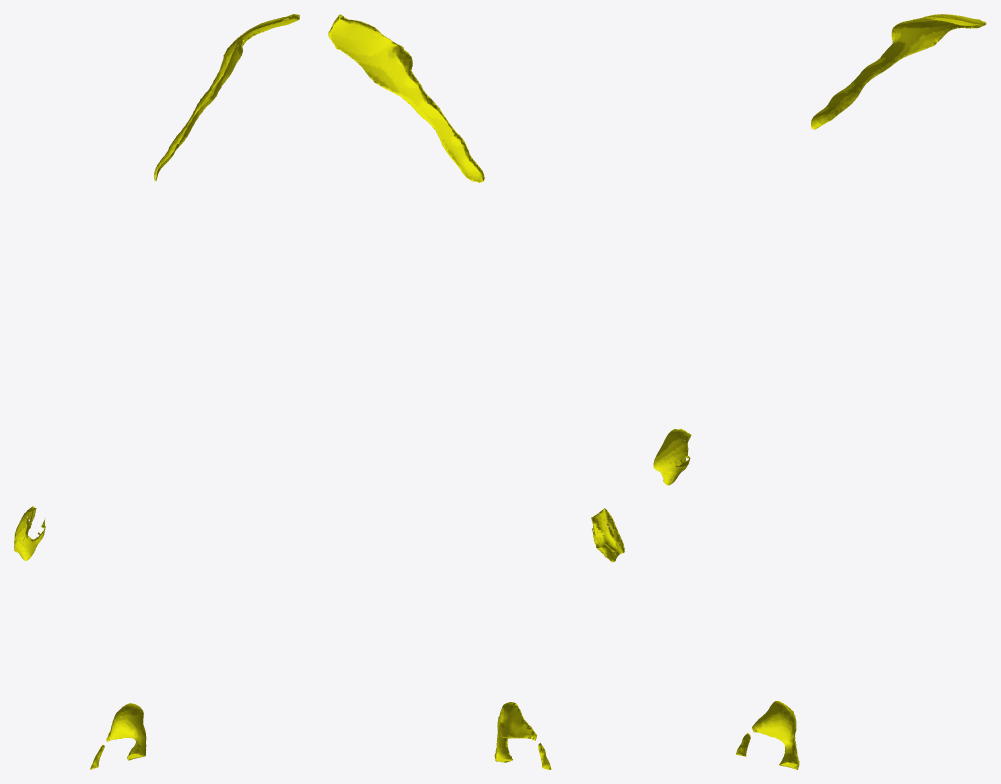
3 views of the same model, side by side, from view 1: azimuth 30°, elevation 25°; view 2: azimuth 150°, elevation 25°; view 3: azimuth 330°, elevation 25° (orthographic). The views are drawn at different scales.
Parts seen in each view (by area): view 1: Switch_Switch_osgPicked_gmeGeoEntityGeode_Geometry_Geometry_ (×2), Switch_Switch_osgPicked_gmeGeoEntityGeode_Geometry_0; view 2: Switch_Switch_osgPicked_gmeGeoEntityGeode_Geometry_Geometry_ (×2), Switch_Switch_osgPicked_gmeGeoEntityGeode_Geometry_0; view 3: Switch_Switch_osgPicked_gmeGeoEntityGeode_Geometry_Geometry_ (×2), Switch_Switch_osgPicked_gmeGeoEntityGeode_Geometry_0.
Part boxes in pixels (x1=…): Switch_Switch_osgPicked_gmeGeoEntityGeode_Geometry_Geometry_ (×2): x1=106, y1=14, x2=299, y2=760; Switch_Switch_osgPicked_gmeGeoEntityGeode_Geometry_0: x1=14, y1=506, x2=45, y2=560; Switch_Switch_osgPicked_gmeGeoEntityGeode_Geometry_Geometry_ (×2): x1=328, y1=14, x2=536, y2=762; Switch_Switch_osgPicked_gmeGeoEntityGeode_Geometry_0: x1=591, y1=508, x2=624, y2=562; Switch_Switch_osgPicked_gmeGeoEntityGeode_Geometry_Geometry_ (×2): x1=752, y1=14, x2=986, y2=769; Switch_Switch_osgPicked_gmeGeoEntityGeode_Geometry_0: x1=653, y1=428, x2=691, y2=485.
Size of what is drawn, in the model's own units: 30855 by 72766 by 3729.
